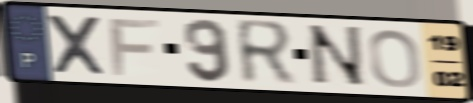9: (181, 16, 234, 85)
F: (107, 17, 163, 78)
N: (305, 23, 370, 89)
O: (366, 27, 423, 90)
R: (233, 17, 299, 88)
X: (43, 12, 110, 78)
